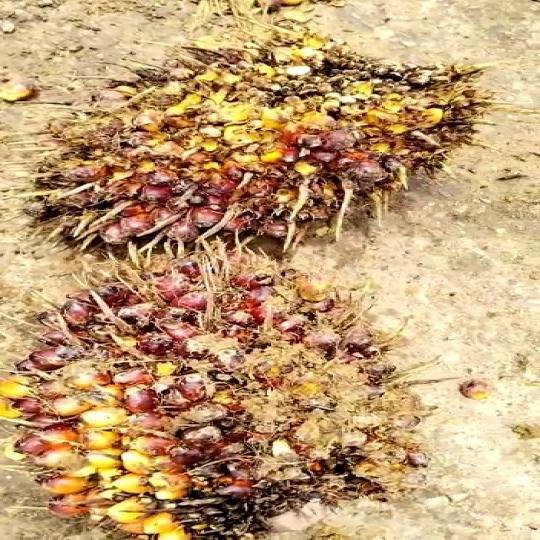masak: (0, 253, 433, 540), (0, 19, 452, 250)
